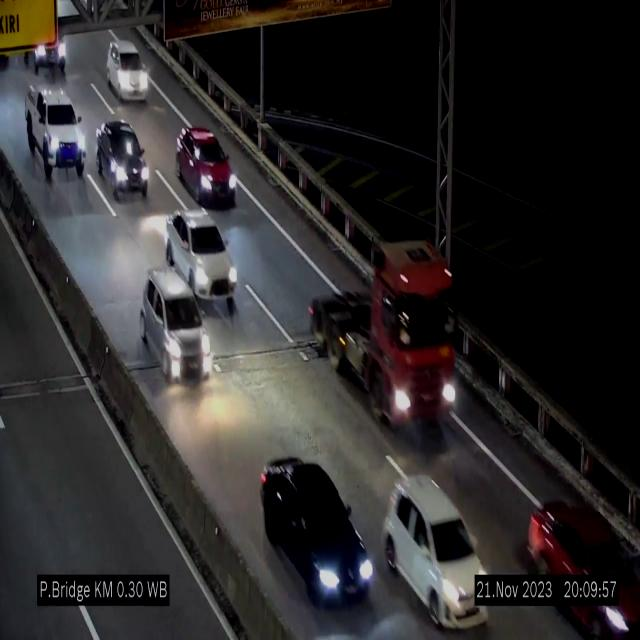Car: (520, 490, 640, 640), (262, 459, 374, 607), (384, 475, 488, 628), (142, 270, 210, 380), (165, 210, 237, 309), (26, 74, 88, 180), (96, 118, 156, 204), (176, 126, 236, 206), (22, 27, 77, 78), (107, 41, 149, 102)
Truck: (308, 226, 458, 435)
